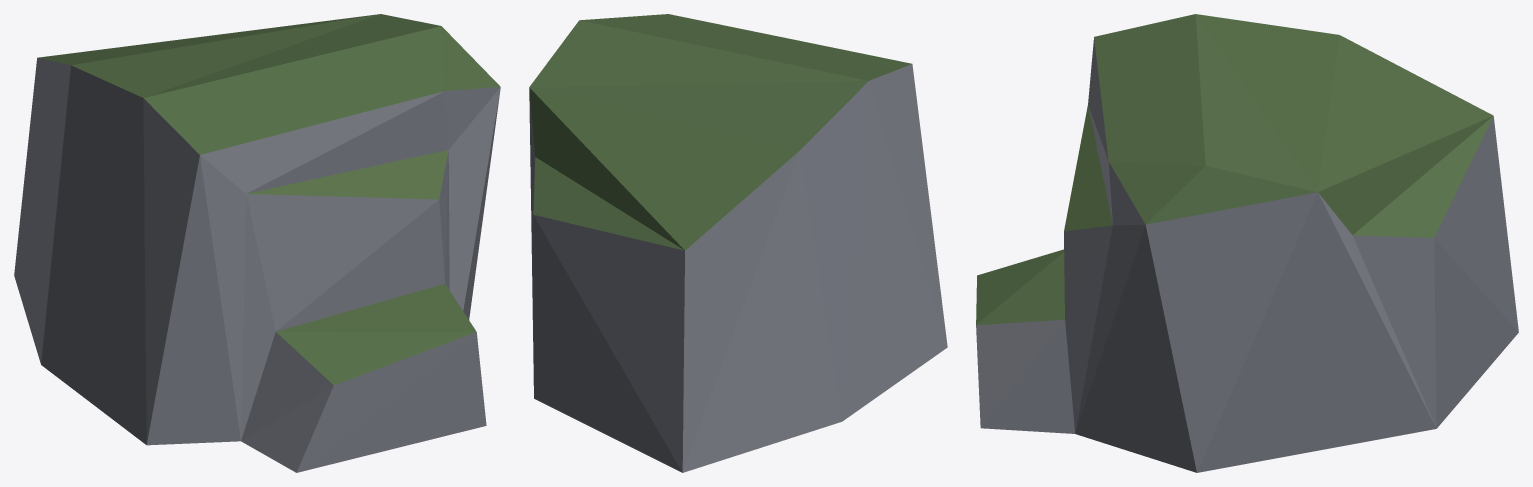
File: Rock_Moss_6.lod3.glb
3 views of the same model, side by side, from view 1: azimuth 30°, elevation 25°; view 2: azimuth 150°, elevation 25°; view 3: azimuth 270°, elevation 25° (orthographic). The views are drawn at different scales.
Parts seen in each view (by area): view 1: Rock_Moss_6; view 2: Rock_Moss_6; view 3: Rock_Moss_6.
Part boxes in pixels (<box>): Rock_Moss_6: <box>14,14,500,472</box>; Rock_Moss_6: <box>529,14,947,472</box>; Rock_Moss_6: <box>976,14,1518,472</box>.
Bounding box in the file's own units: 0.8853 × 0.6948 × 1.13.
